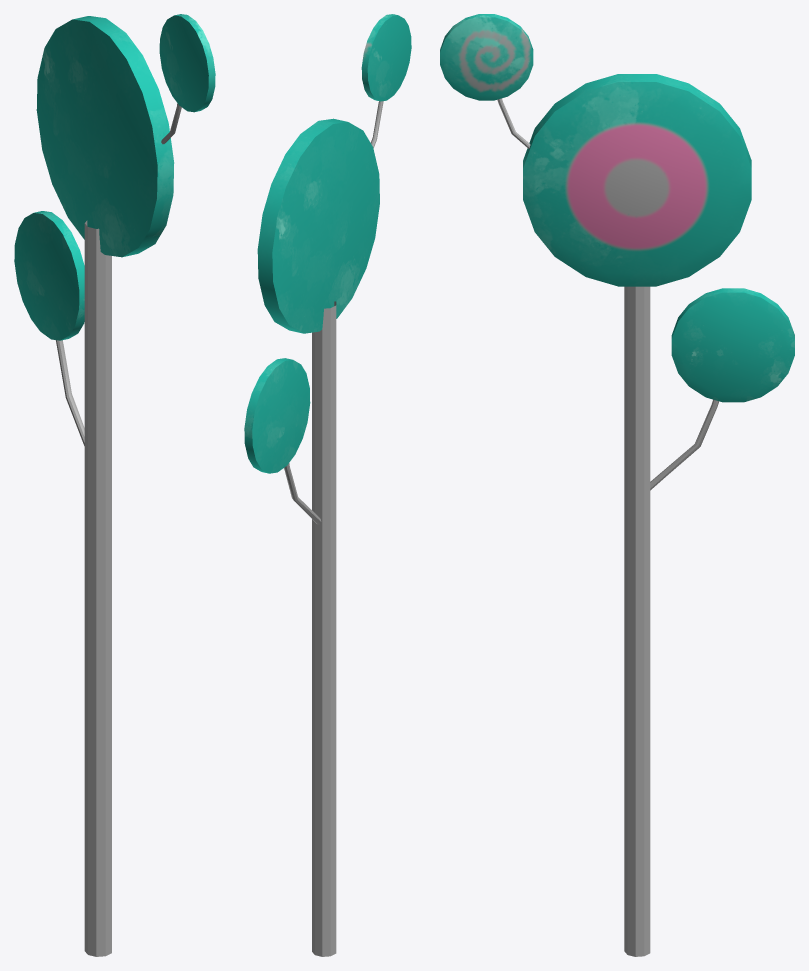
The model's file is piruleta arbol 3.fbx.
3 renders of one model, left to right at view 1: azimuth 30°, elevation 25°; view 2: azimuth 150°, elevation 25°; view 3: azimuth 270°, elevation 25°, orthographic. The views are drawn at different scales.
Parts seen in each view (by area): view 1: Cylinder.014; view 2: Cylinder.014; view 3: Cylinder.014.
Boxes of the visible parts, box(x1,y1,x2,y2) form: Cylinder.014: box(14, 14, 215, 956); Cylinder.014: box(244, 14, 411, 956); Cylinder.014: box(440, 14, 794, 956).
Size of the model in its own units: 29.38 by 719 by 246.
